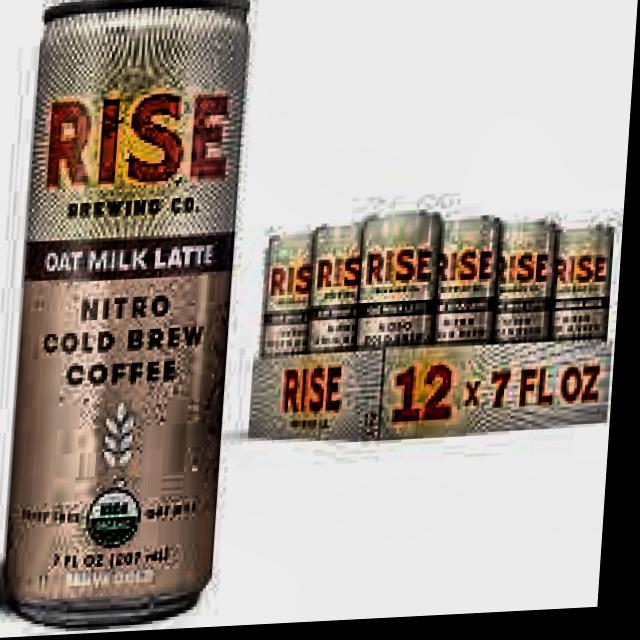can: (0, 0, 262, 639), (355, 211, 446, 354), (432, 213, 508, 350), (496, 218, 567, 350), (309, 217, 375, 358), (550, 225, 621, 355), (262, 225, 323, 364)
